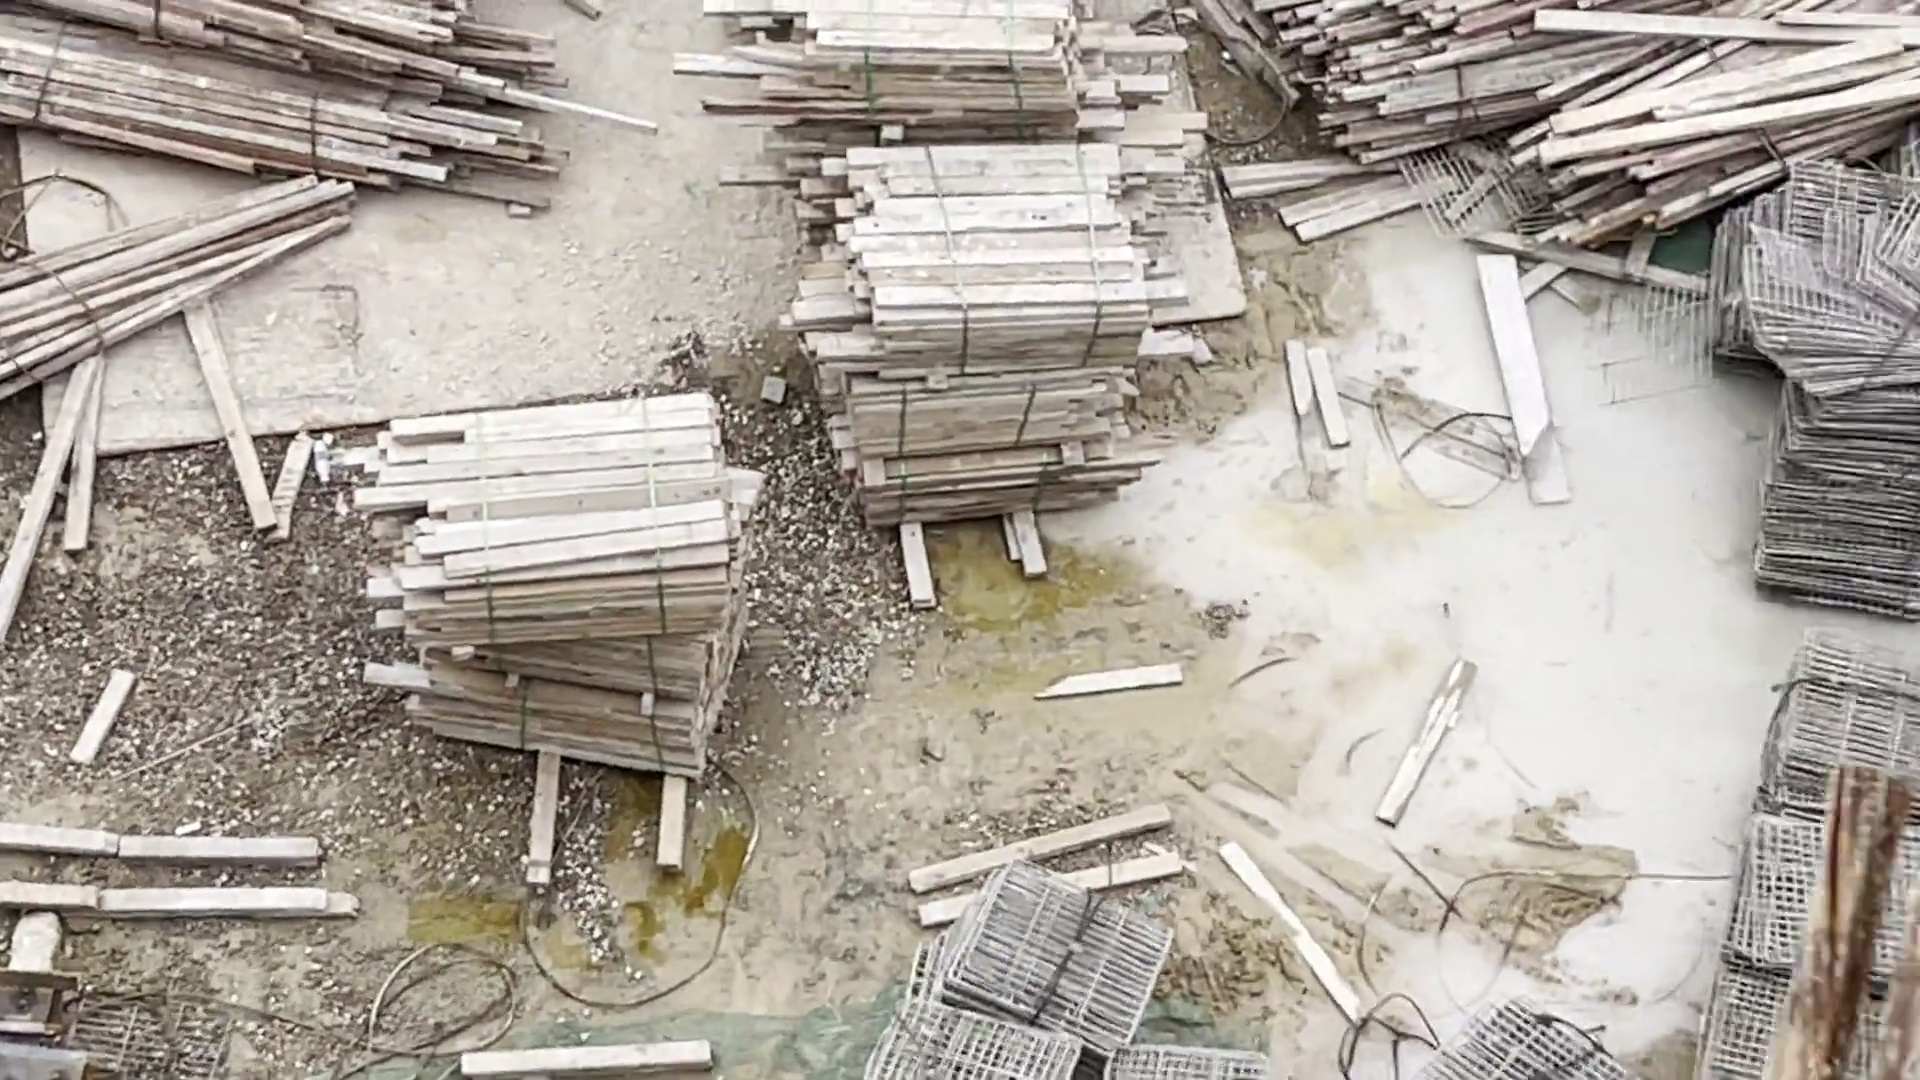wood: (3, 1, 607, 400), (767, 11, 1117, 514), (392, 402, 713, 785), (1262, 1, 1920, 175)
